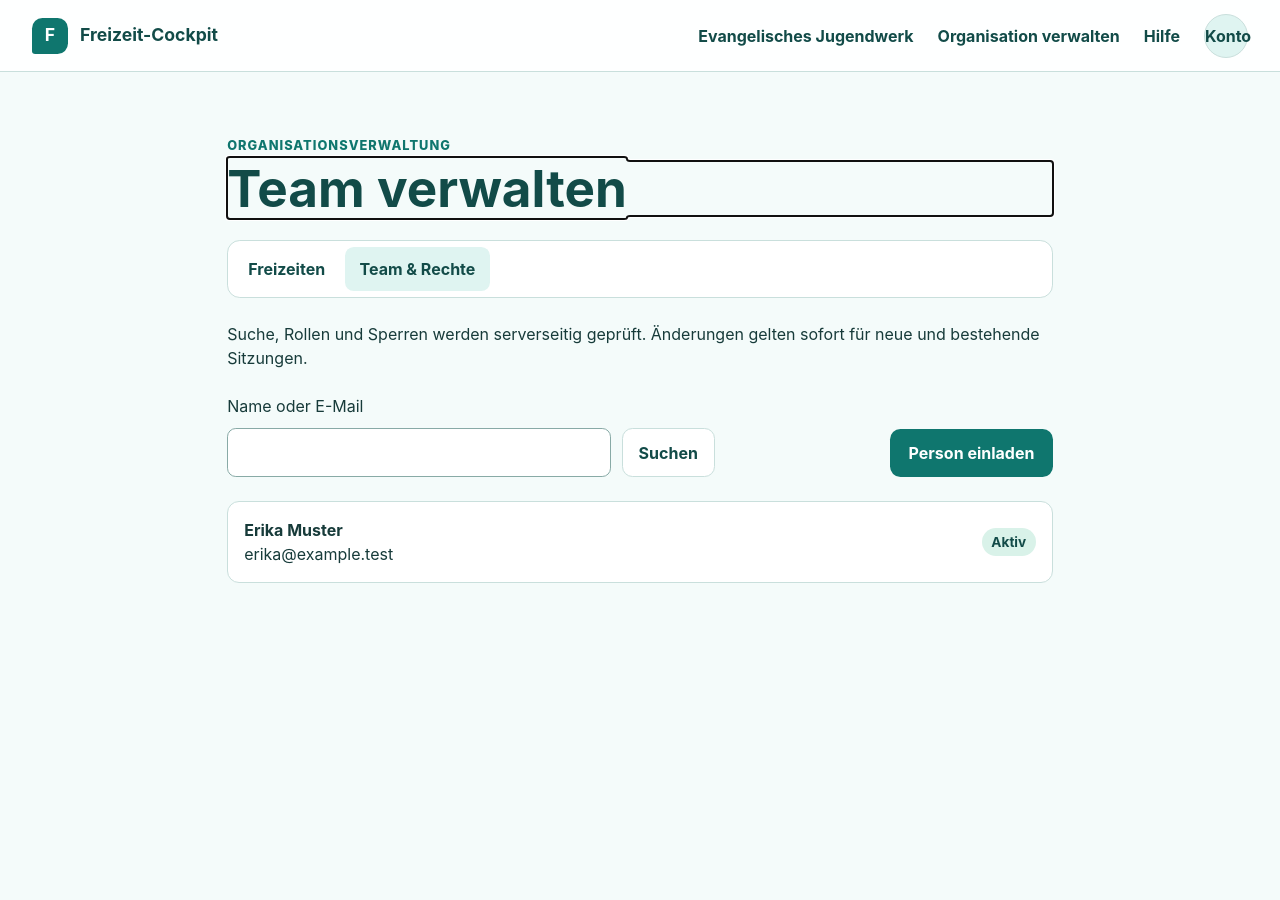
Scenario: user administration › lets an Orgadmin suspend another Orgadmin only in their organization
Check: the text "Erika Muster" is shown, box [244,520,343,540]
Click the button with aria-label "Erika Muster auswählen" at (293, 530), box [244,518,1036,566]
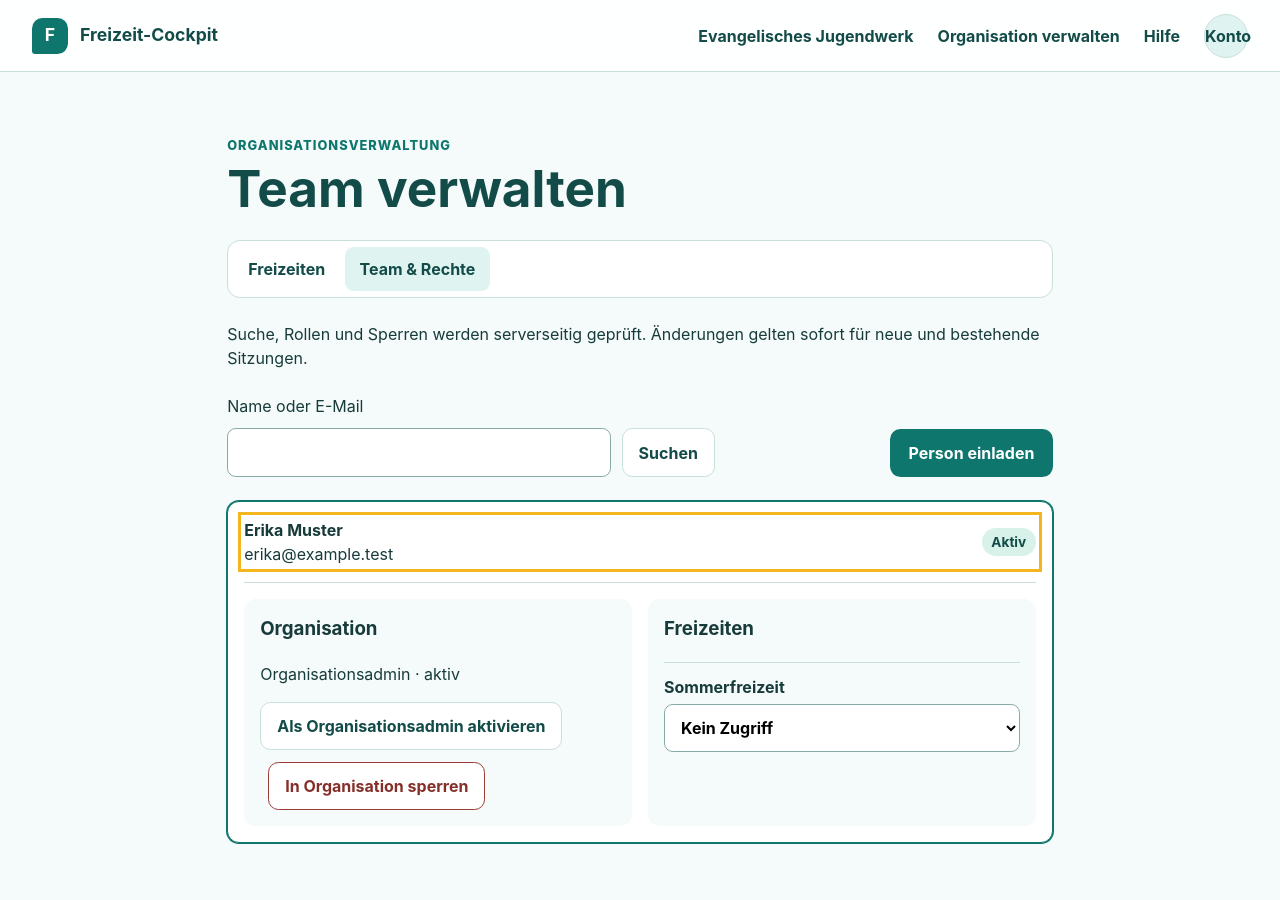
Select "Mitarbeit" in the dropdown named "Freizeitrolle für Erika Muster in Sommerfreizeit" at (842, 728), box [664,704,1020,752]
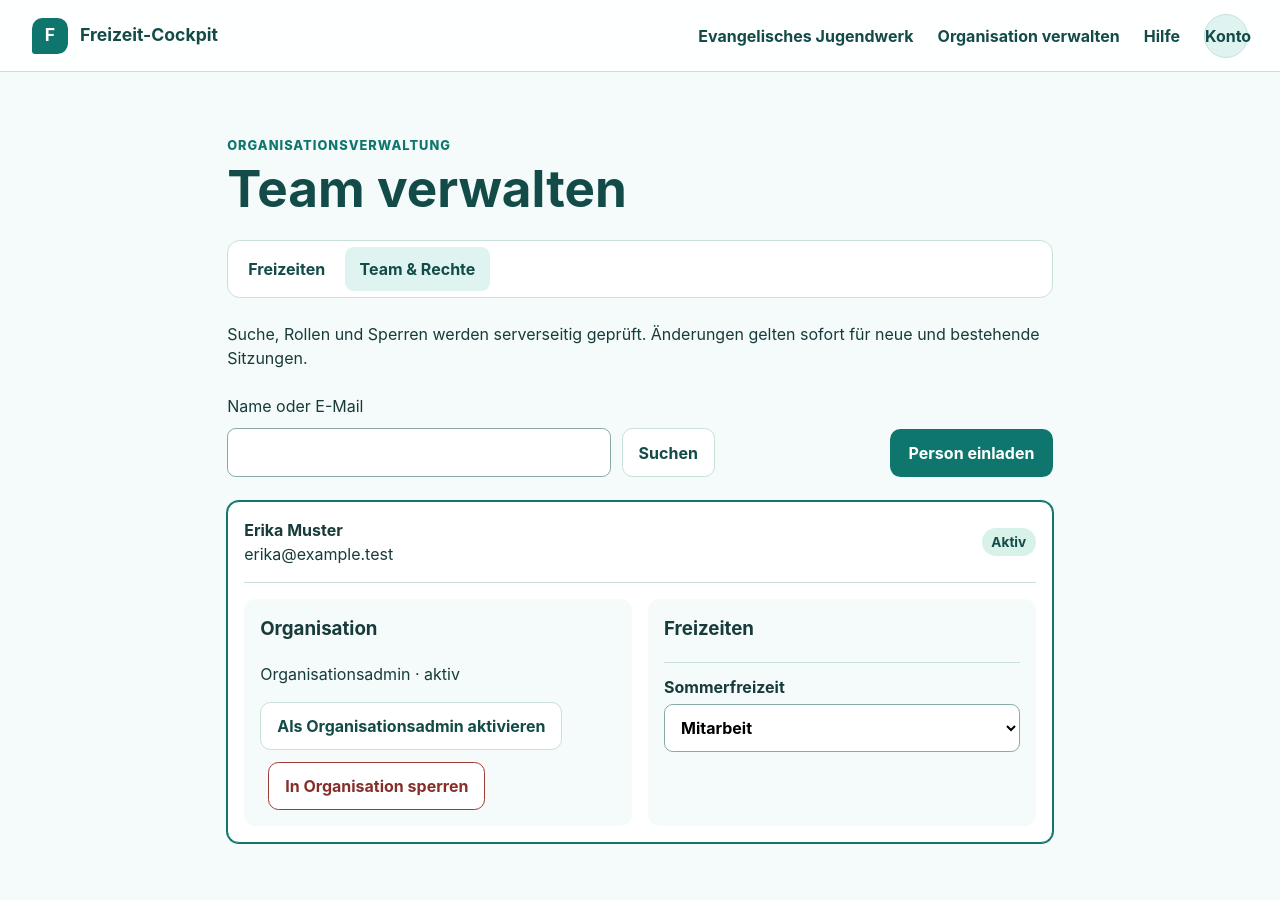
Click the button "In Organisation sperren" at (377, 786), box [268,762,485,810]
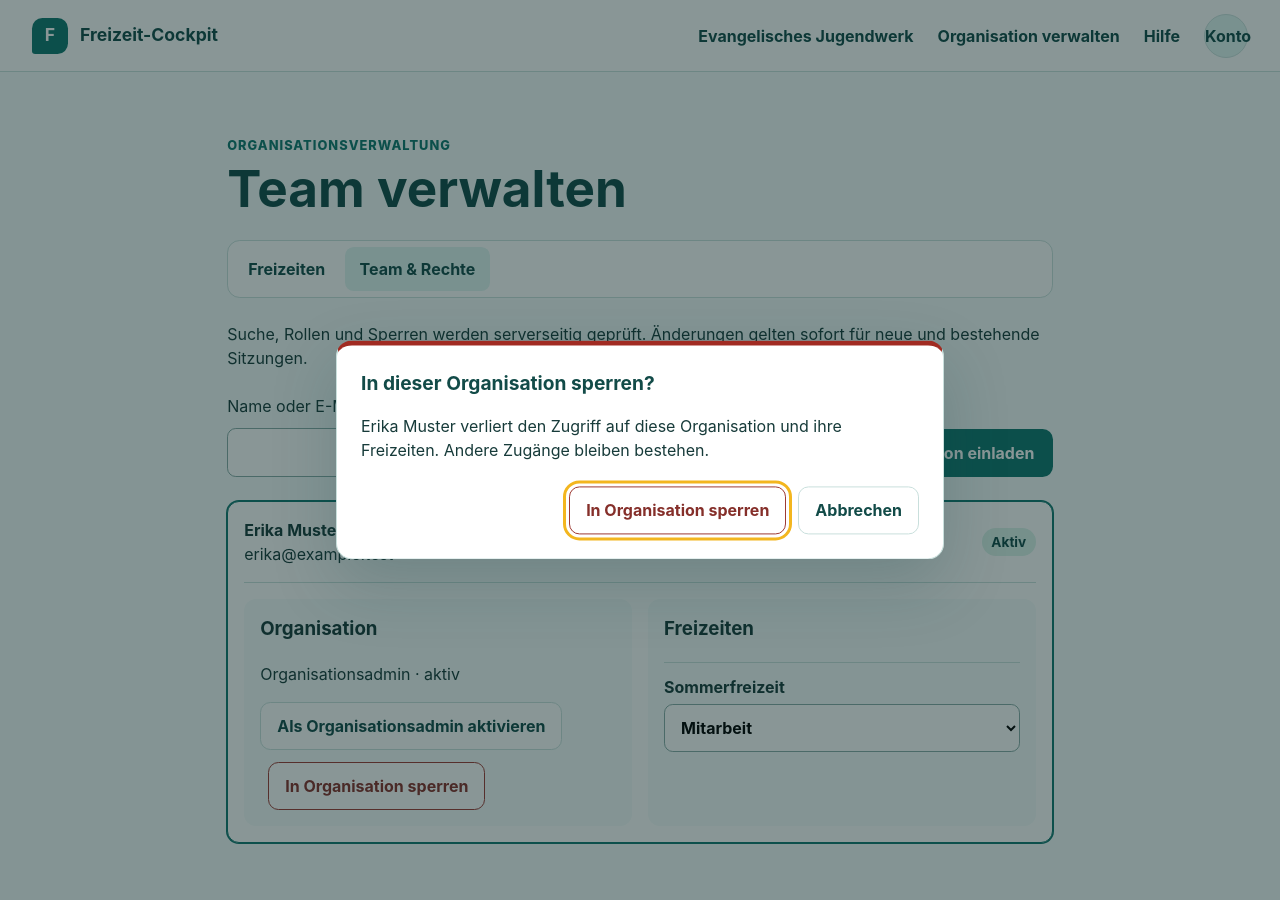
Click the button "In Organisation sperren" at (678, 510), box [569,486,786,535]
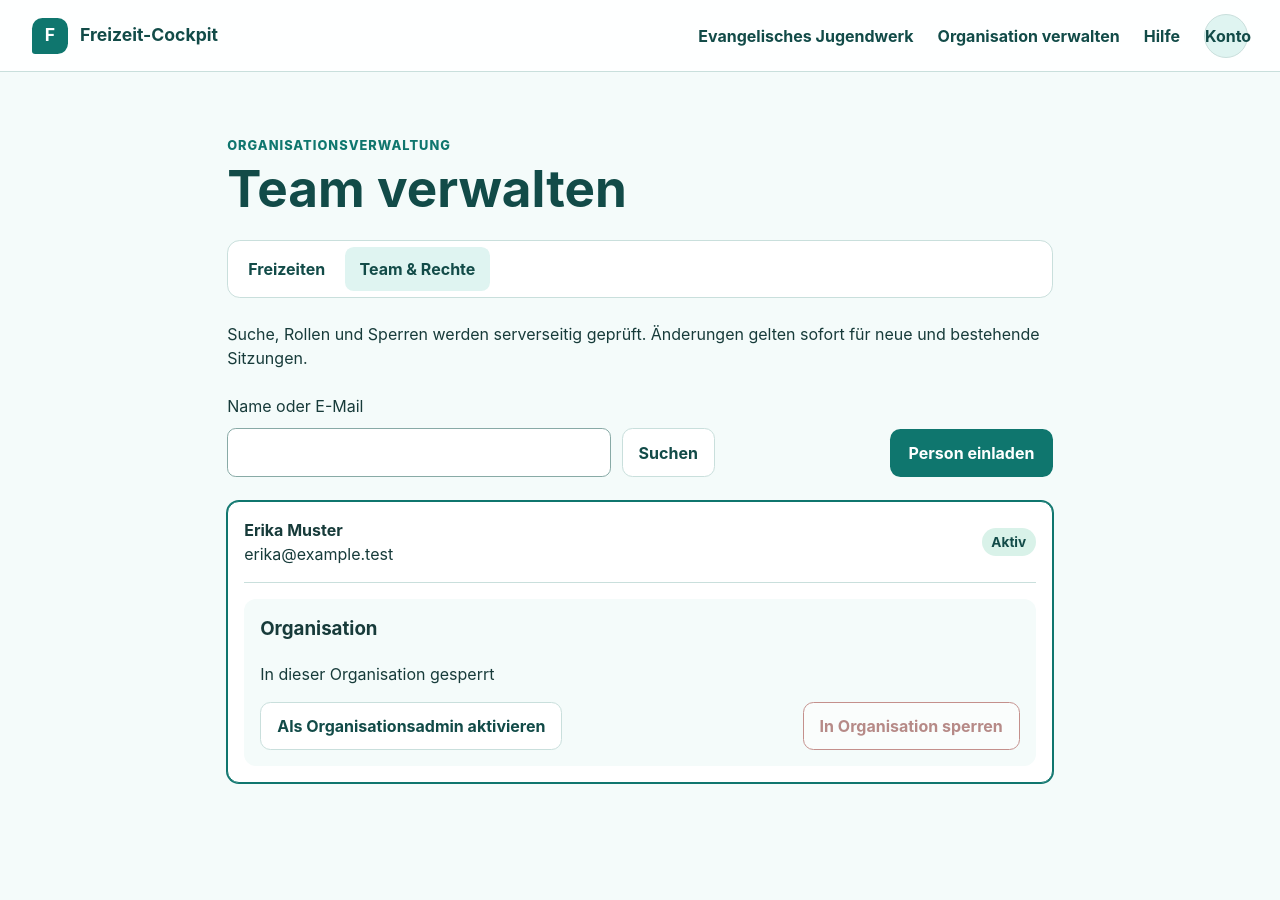
Check: the text "In dieser Organisation gesperrt" is shown, box [260,664,494,684]
